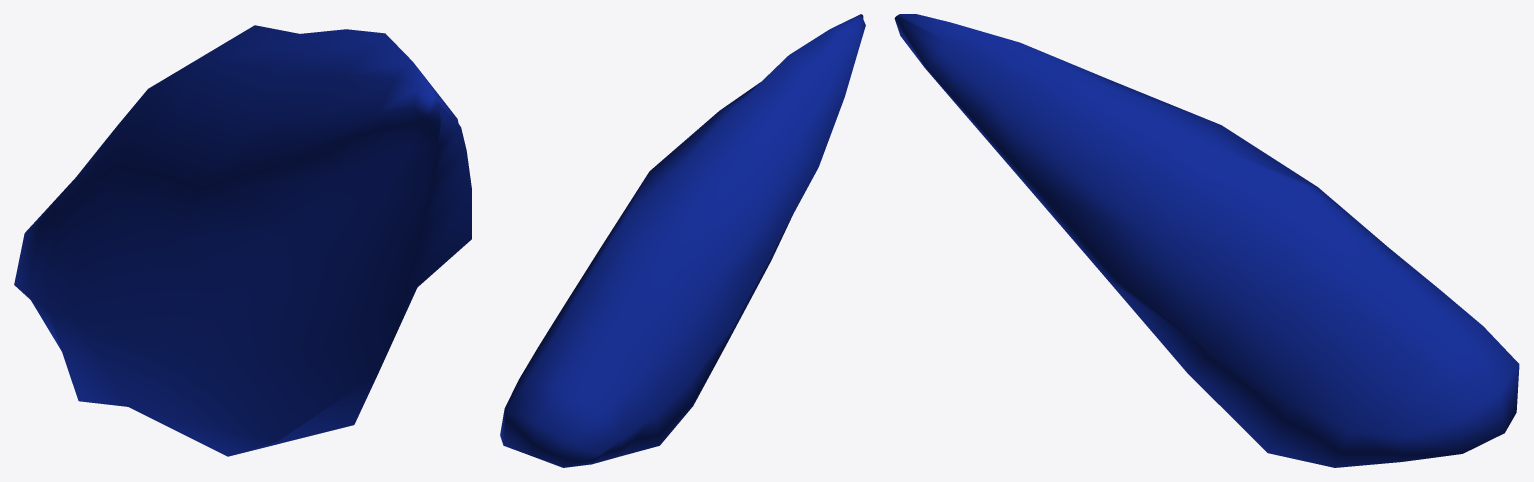
Rendered from EarthSpikeSmall_low.fbx.
3 renders of one model, left to right at view 1: azimuth 30°, elevation 25°; view 2: azimuth 150°, elevation 25°; view 3: azimuth 270°, elevation 25°, orthographic. The views are drawn at different scales.
Visible parts, largest first — view 1: Spike3_low; view 2: Spike3_low; view 3: Spike3_low.
Boxes of the visible parts, x1,y1,x2,y2 form: Spike3_low: (14, 25, 471, 456); Spike3_low: (500, 14, 865, 467); Spike3_low: (894, 14, 1519, 467).
Size of the model in its own units: 0.1241 by 0.2112 by 0.3185.
